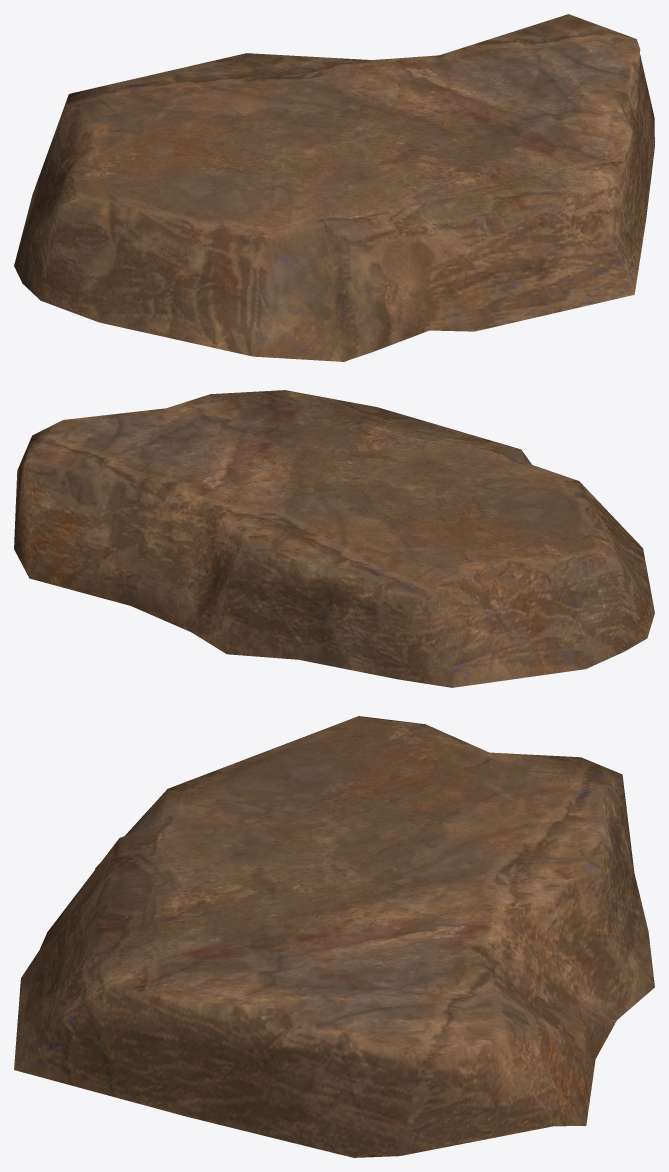
Rendered from Rock_Shales_04_L1.fbx.
3 views of the same model, one above another, from view 1: azimuth 30°, elevation 25°; view 2: azimuth 150°, elevation 25°; view 3: azimuth 270°, elevation 25° (orthographic). The views are drawn at different scales.
Parts seen in each view (by area): view 1: polySurface240; view 2: polySurface240; view 3: polySurface240.
Boxes of the visible parts, x1,y1,x2,y2 form: polySurface240: (14, 14, 654, 361); polySurface240: (14, 390, 654, 687); polySurface240: (14, 716, 654, 1157).
Bounding box in the file's own units: 121 × 22.04 × 87.43.
